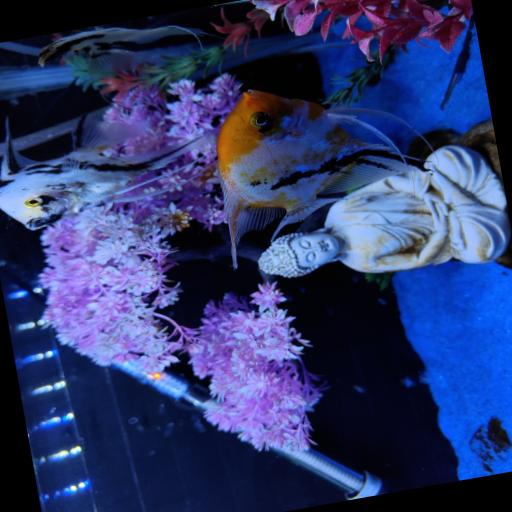Fish: (217, 89, 412, 266), (0, 115, 215, 229), (39, 25, 209, 68)
